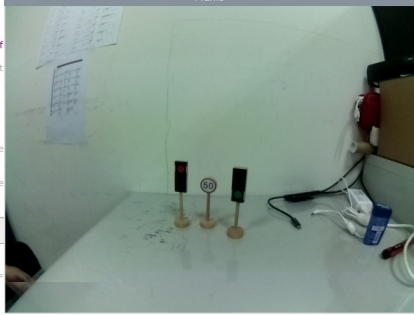Green: (228, 165, 247, 207)
Red: (171, 158, 189, 197)
Speed50: (199, 176, 218, 193)
